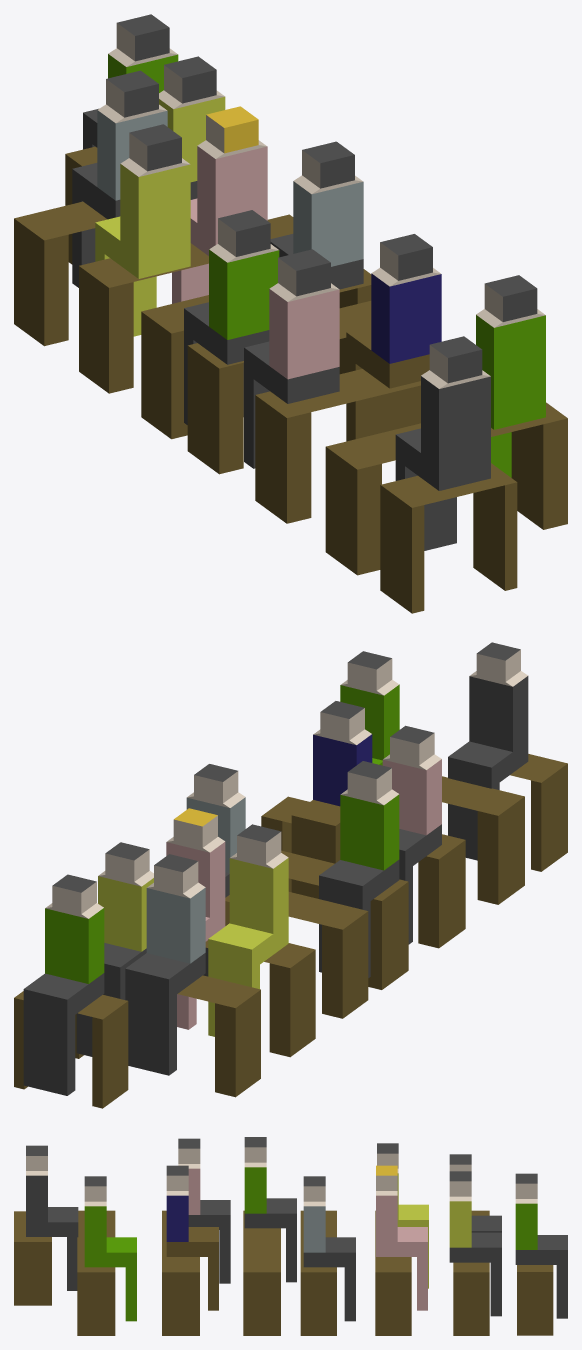
File: top-deck-seats.dae
The picture shows the model from 3 angles, top to bottom: view 1: azimuth 30°, elevation 25°; view 2: azimuth 150°, elevation 25°; view 3: azimuth 270°, elevation 25°; orthographic projection. The views are drawn at different scales.
Parts seen in each view (by area): view 1: Cube_006, Plane_008, Plane_003, Plane_015, Plane_012, Cube_004, Plane_005, Plane_006, Plane_009, Cube_007, Plane_007, Cube_008 (+7 smaller); view 2: Plane_014, Plane_011, Plane_003, Plane_012, Plane_005, Plane_008, Plane_010, Plane_015, Cube_006, Cube_012, Cube_007, Cube_011 (+7 smaller); view 3: Cube_008, Plane_010, Plane_006, Plane_007, Plane_014, Plane_005, Plane_008, Plane_003, Plane_009, Cube_006, Cube_007, Cube_012 (+7 smaller).
Boxes of the visible parts, bbox=[...] form: Cube_006: bbox=[325, 402, 567, 575]; Plane_008: bbox=[346, 234, 441, 441]; Plane_003: bbox=[395, 336, 490, 550]; Plane_015: bbox=[244, 249, 339, 468]; Plane_012: bbox=[95, 124, 190, 336]; Cube_004: bbox=[380, 463, 517, 613]; Plane_005: bbox=[184, 210, 279, 424]; Plane_006: bbox=[476, 275, 545, 477]; Plane_009: bbox=[172, 106, 267, 303]; Cube_007: bbox=[255, 369, 420, 523]; Plane_007: bbox=[270, 141, 363, 289]; Cube_008: bbox=[187, 301, 420, 474]; Plane_014: bbox=[23, 874, 104, 1095]; Plane_011: bbox=[125, 854, 205, 1075]; Plane_003: bbox=[448, 642, 528, 860]; Plane_012: bbox=[208, 824, 288, 1036]; Plane_005: bbox=[319, 761, 399, 977]; Plane_008: bbox=[291, 701, 372, 898]; Plane_010: bbox=[76, 842, 153, 1056]; Plane_015: bbox=[382, 725, 441, 944]; Cube_006: bbox=[442, 776, 524, 904]; Cube_012: bbox=[225, 892, 368, 1018]; Cube_007: bbox=[261, 796, 465, 948]; Cube_011: bbox=[75, 975, 260, 1097]; Cube_008: bbox=[243, 1210, 280, 1335]; Plane_010: bbox=[449, 1171, 501, 1316]; Plane_006: bbox=[84, 1176, 136, 1321]; Plane_007: bbox=[303, 1176, 355, 1321]; Plane_014: bbox=[515, 1173, 567, 1318]; Plane_005: bbox=[244, 1137, 296, 1282]; Plane_008: bbox=[166, 1165, 218, 1310]; Plane_003: bbox=[26, 1145, 78, 1290]; Plane_009: bbox=[376, 1165, 427, 1310]; Cube_006: bbox=[77, 1210, 115, 1335]; Cube_007: bbox=[162, 1210, 199, 1335]; Cube_012: bbox=[300, 1210, 336, 1335].
Bounding box in the file's own units: 0.8058 × 3.06 × 0.867.
